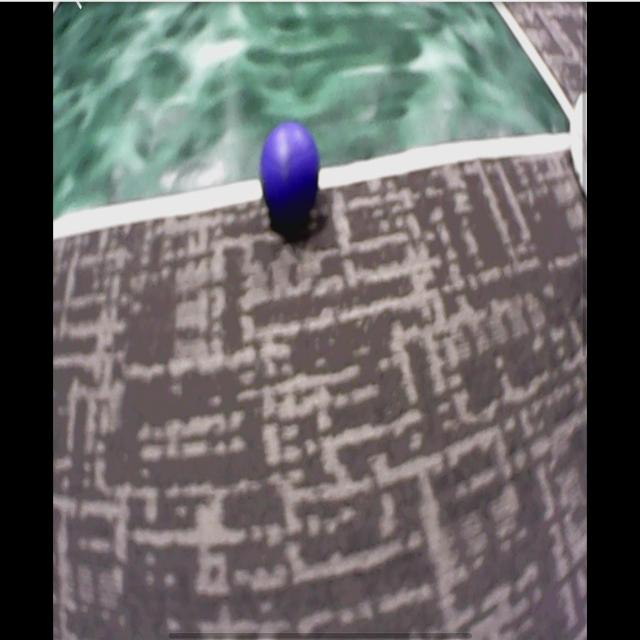ball: (261, 125, 320, 213)
